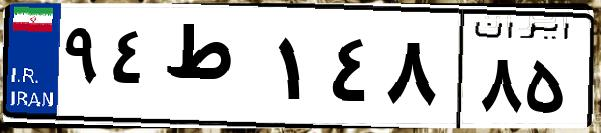1: (270, 28, 330, 110)
4: (330, 28, 385, 110), (110, 28, 158, 98)
5: (525, 38, 570, 115)
8: (385, 28, 445, 110), (475, 38, 525, 113)
9: (57, 26, 110, 100)
ط: (158, 20, 270, 120)
